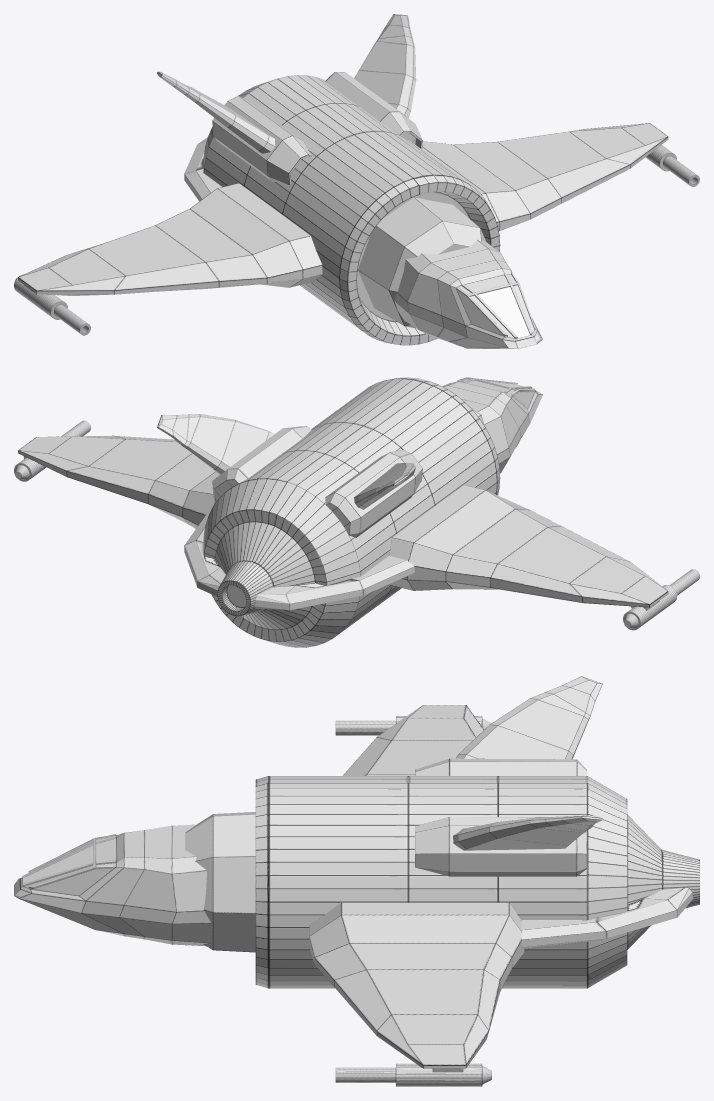
The model's file is MediumShip Mk2.fbx.
3 renders of one model, top to bottom at view 1: azimuth 30°, elevation 25°; view 2: azimuth 150°, elevation 25°; view 3: azimuth 270°, elevation 25°, orthographic. The views are drawn at different scales.
Visible parts, largest first — view 1: Body, Wing Right, Wing Left, Front Cockpit, Neck, Tail Fin Left, Bulk Right, Barrels, Bulks Left, Tail Fin Right, Back Fenders, Cockpit Renforcements; view 2: Body, Wing Right, Wing Left, Back Fenders, Tail Fin Left, Front Cockpit, Bulk Right, Bulks Left, Barrels, Tail Fin Right; view 3: Body, Wing Left, Front Cockpit, Neck, Tail Fin Right, Bulks Left, Wing Right, Back Fenders, Barrels, Tail Fin Left, Bulk Right, Cockpit Renforcements.
Part boxes in pixels (x1=…): Body: x1=203, y1=75, x2=500, y2=345; Wing Right: x1=18, y1=183, x2=322, y2=295; Wing Left: x1=422, y1=123, x2=668, y2=231; Front Cockpit: x1=394, y1=240, x2=542, y2=348; Neck: x1=358, y1=197, x2=486, y2=328; Tail Fin Left: x1=354, y1=14, x2=416, y2=117; Bulk Right: x1=212, y1=95, x2=311, y2=184; Barrels: x1=14, y1=145, x2=699, y2=335; Bulks Left: x1=325, y1=72, x2=422, y2=149; Tail Fin Right: x1=157, y1=71, x2=275, y2=153; Back Fenders: x1=184, y1=137, x2=221, y2=201; Cockpit Renforcements: x1=457, y1=273, x2=534, y2=338; Body: x1=203, y1=377, x2=500, y2=647; Wing Right: x1=389, y1=485, x2=668, y2=607; Wing Left: x1=18, y1=435, x2=219, y2=528; Back Fenders: x1=184, y1=514, x2=414, y2=610; Tail Fin Left: x1=157, y1=414, x2=274, y2=474; Front Cockpit: x1=442, y1=379, x2=542, y2=473; Bulk Right: x1=325, y1=449, x2=422, y2=537; Bulks Left: x1=212, y1=426, x2=311, y2=502; Barrels: x1=14, y1=420, x2=699, y2=630; Tail Fin Right: x1=354, y1=463, x2=415, y2=509; Body: x1=255, y1=776, x2=699, y2=988; Wing Left: x1=309, y1=902, x2=524, y2=1068; Front Cockpit: x1=14, y1=824, x2=211, y2=946; Neck: x1=185, y1=812, x2=255, y2=952; Tail Fin Right: x1=456, y1=676, x2=602, y2=759; Bulks Left: x1=415, y1=817, x2=586, y2=876; Wing Right: x1=343, y1=705, x2=483, y2=775; Back Fenders: x1=521, y1=887, x2=693, y2=948; Barrels: x1=335, y1=716, x2=491, y2=1086; Tail Fin Left: x1=453, y1=815, x2=602, y2=850; Bulk Right: x1=415, y1=758, x2=586, y2=775; Cockpit Renforcements: x1=22, y1=834, x2=116, y2=888.
Size of the model in its own units: 801 by 241 by 645.
Materials: 13 (13 with a texture image).
